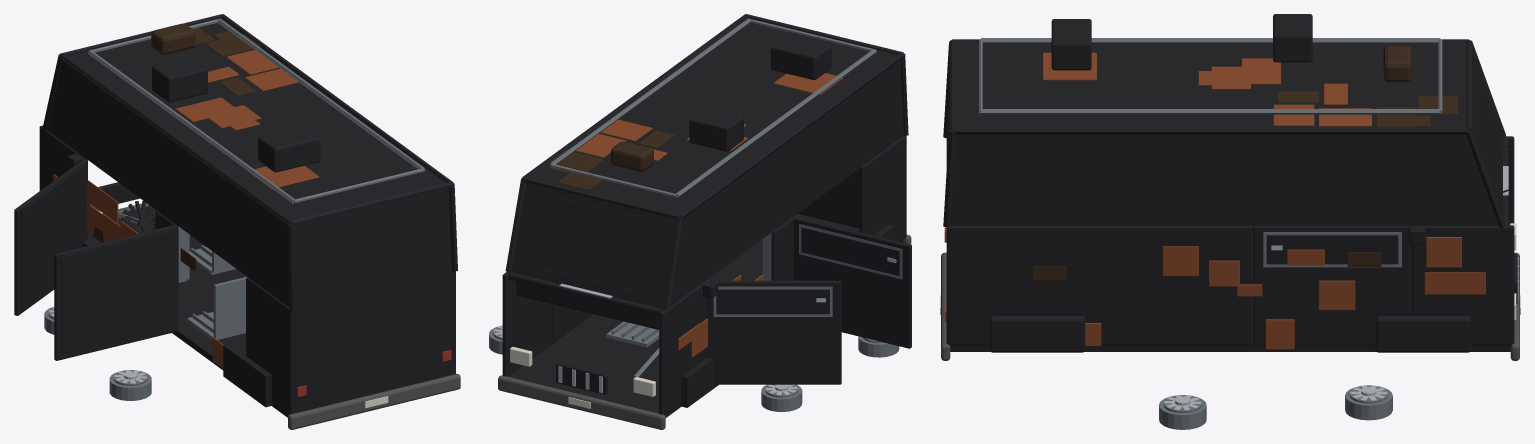
File: car_jam_van_burnt.glb
3 views of the same model, side by side, from view 1: azimuth 30°, elevation 25°; view 2: azimuth 150°, elevation 25°; view 3: azimuth 270°, elevation 25° (orthographic). The views are drawn at different scales.
Parts seen in each view (by area): view 1: car_jam_van_burnt; view 2: car_jam_van_burnt; view 3: car_jam_van_burnt.
Boxes of the visible parts, x1=… form: car_jam_van_burnt: x1=14, y1=14, x2=460, y2=429; car_jam_van_burnt: x1=489, y1=14, x2=911, y2=429; car_jam_van_burnt: x1=940, y1=14, x2=1520, y2=429.
Size of what is drawn, in the model's own units: 4.34 by 2.79 by 5.12.
Materials: 2 (2 with a texture image).
